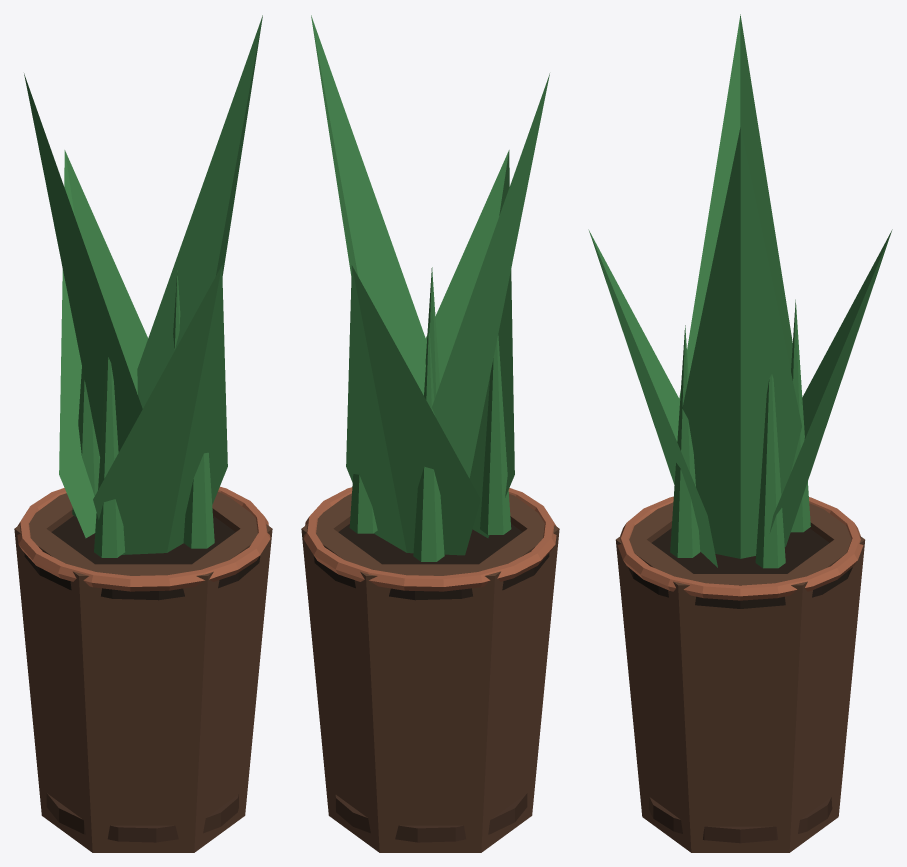
File: pottedPlant.glb
3 renders of one model, left to right at view 1: azimuth 30°, elevation 25°; view 2: azimuth 150°, elevation 25°; view 3: azimuth 270°, elevation 25°, orthographic. The views are drawn at different scales.
Visible parts, largest first — view 1: pottedPlant(Clone), plant; view 2: pottedPlant(Clone), plant; view 3: pottedPlant(Clone), plant.
Boxes of the visible parts, x1,y1,x2,y2 form: pottedPlant(Clone): [14, 486, 272, 852]; plant: [24, 15, 262, 557]; pottedPlant(Clone): [301, 487, 559, 852]; plant: [311, 15, 549, 561]; pottedPlant(Clone): [615, 496, 865, 852]; plant: [588, 14, 892, 568].
Bounding box in the file's own units: 0.2121 × 0.654 × 0.2415.
